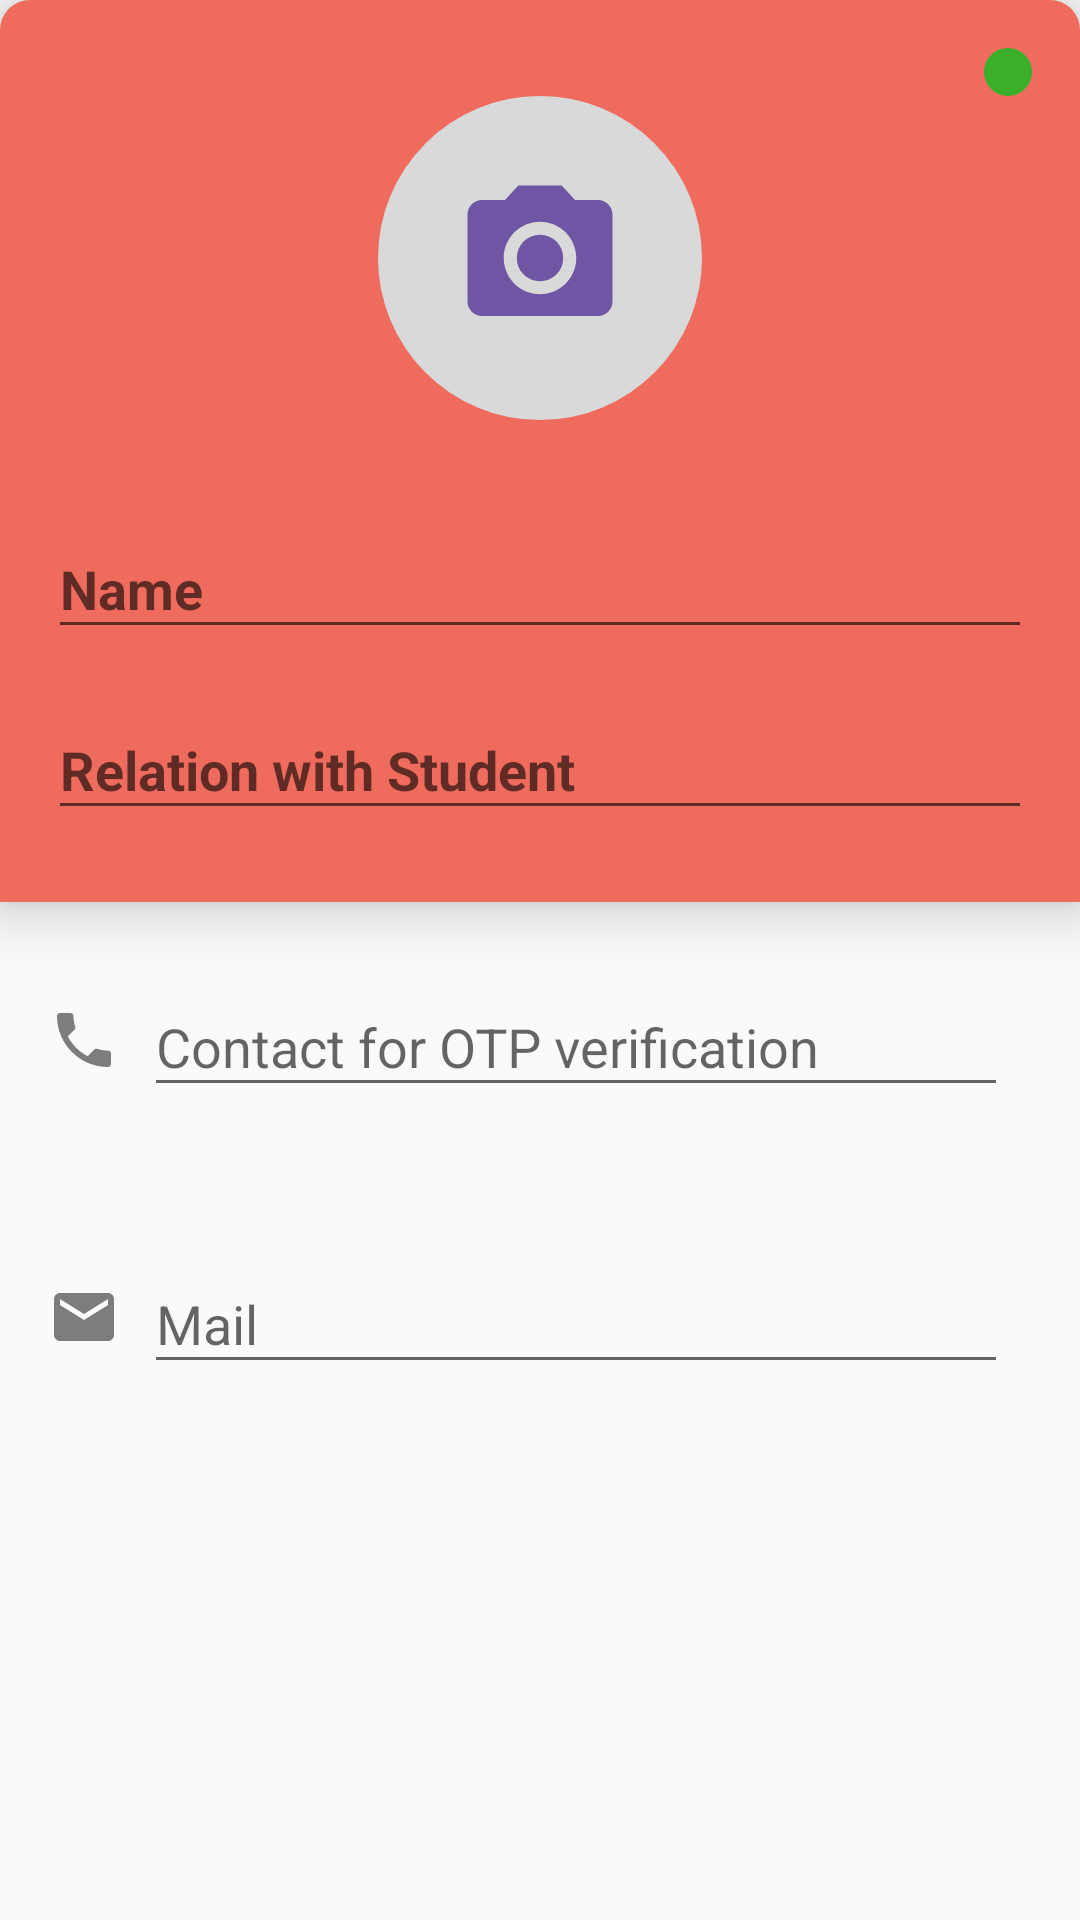

Named icons in this screenshot (1080px×1920px) and their bounding boxes, [x1,y1,x2,y2]:
local phone: [57,1013,111,1067]
photo camera: [378,96,702,420]
